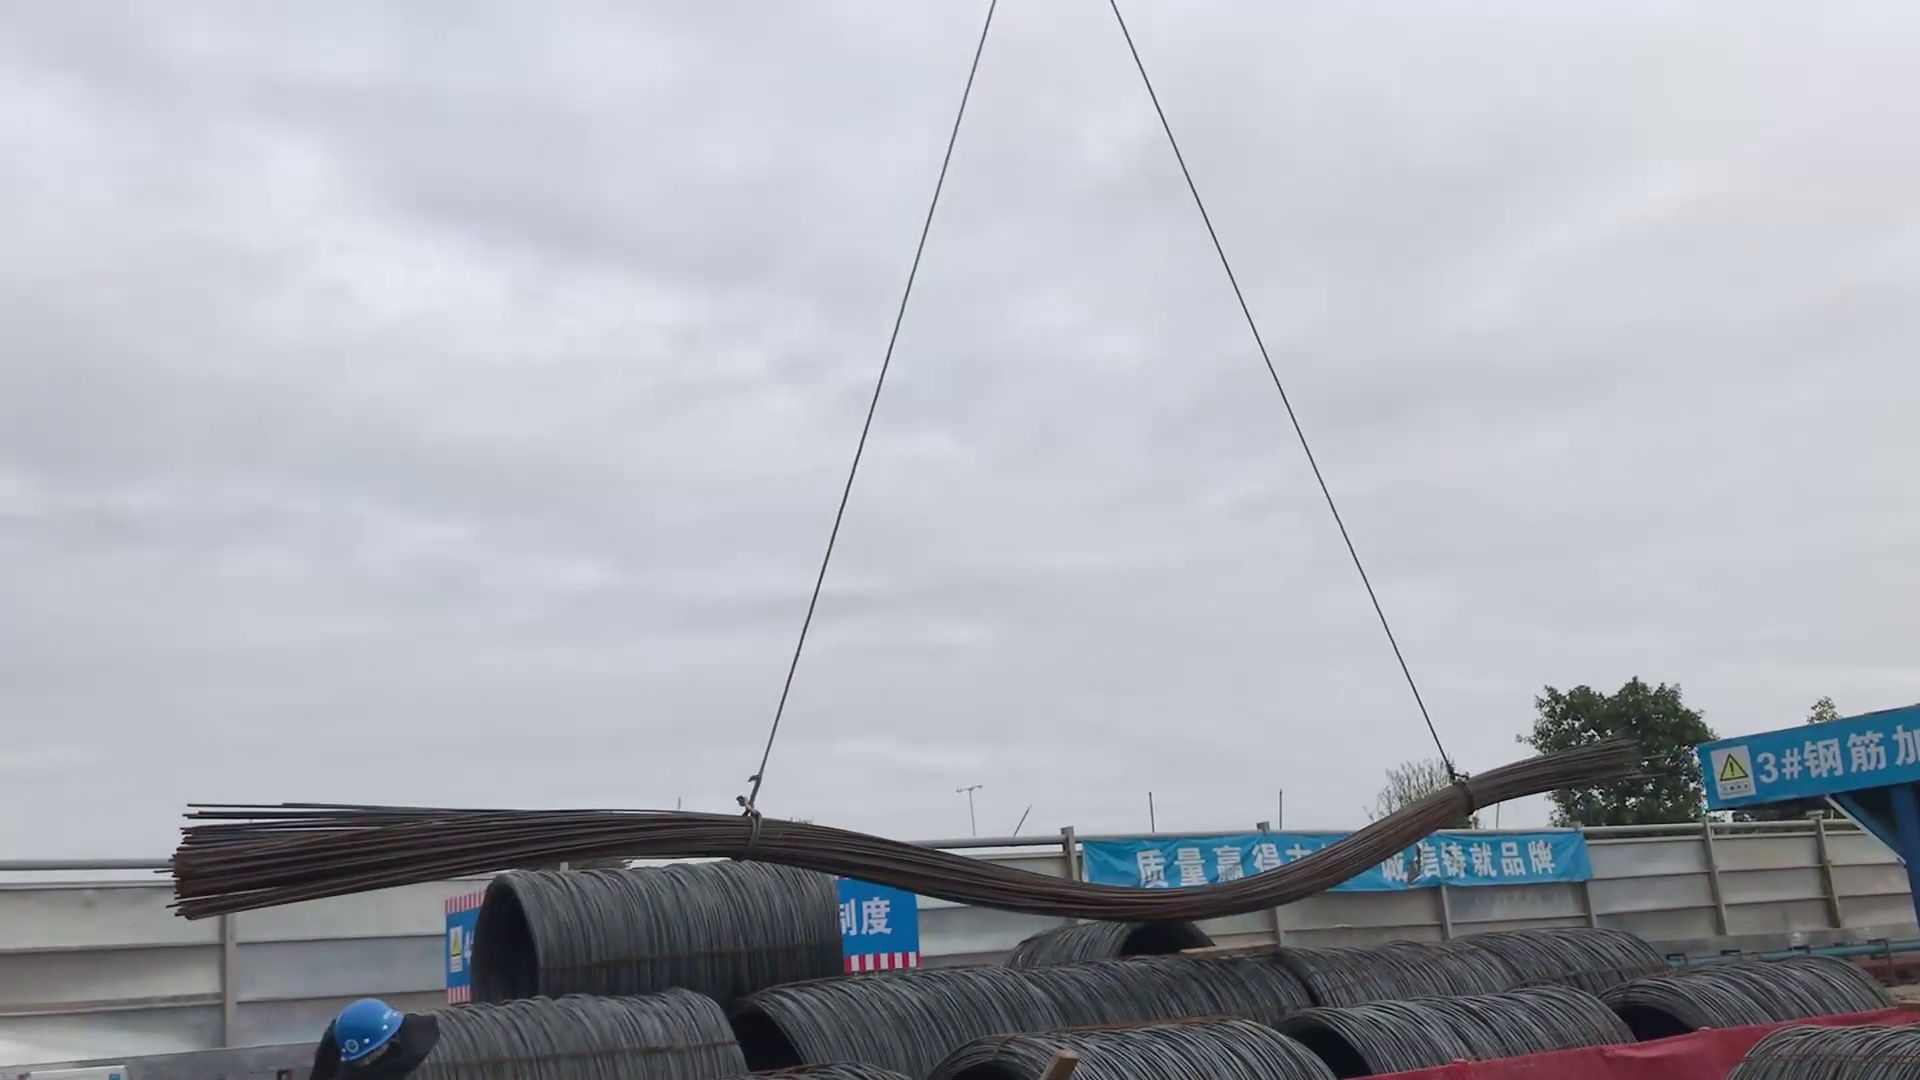helmet: (328, 1000, 410, 1065)
rebar: (161, 737, 1652, 924)
slogan: (1085, 833, 1582, 909)
